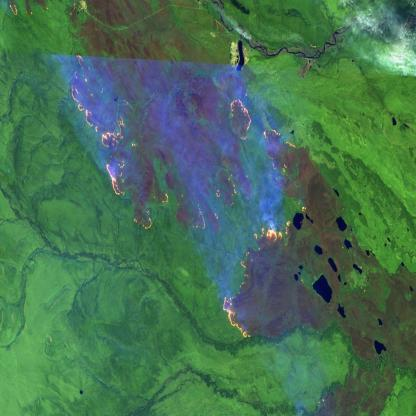fire: (70, 52, 170, 229), (180, 90, 255, 233), (219, 251, 259, 343), (260, 124, 294, 175), (258, 224, 293, 249), (5, 0, 49, 19)
